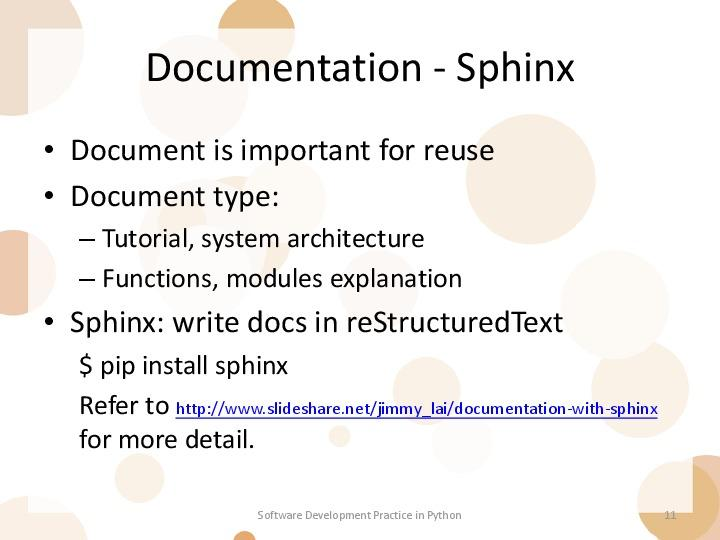paragraph: (39, 126, 692, 480)
title: (125, 41, 593, 99)
